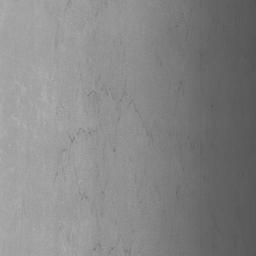Silk spot: (101, 84, 116, 100), (76, 126, 97, 136), (87, 91, 100, 104), (79, 188, 89, 201), (93, 240, 102, 251)
